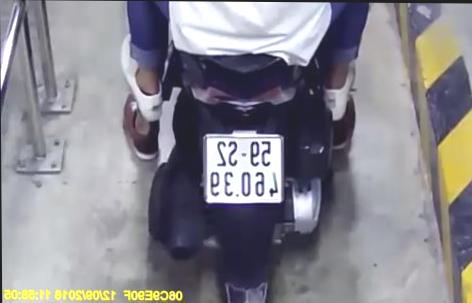License_Plate: (199, 130, 293, 208)
